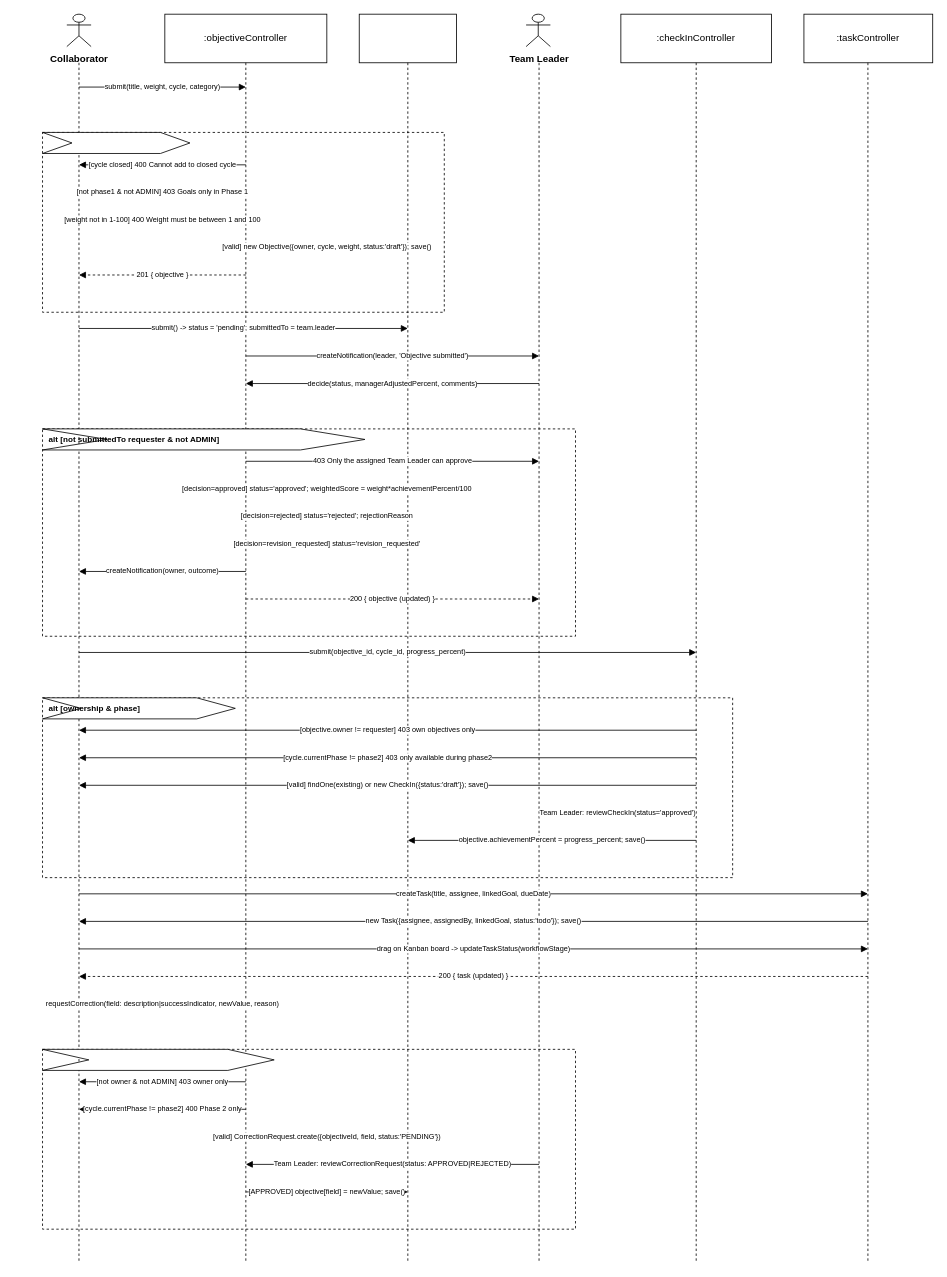
Image size: 947x1277. Some labels were removed from this diagram. Each missing label, with the box of its shape:
:Objective: (358, 13, 456, 63)
alt [owner & phase2 & status]: (42, 1049, 274, 1070)
alt [validation]: (42, 132, 190, 153)
